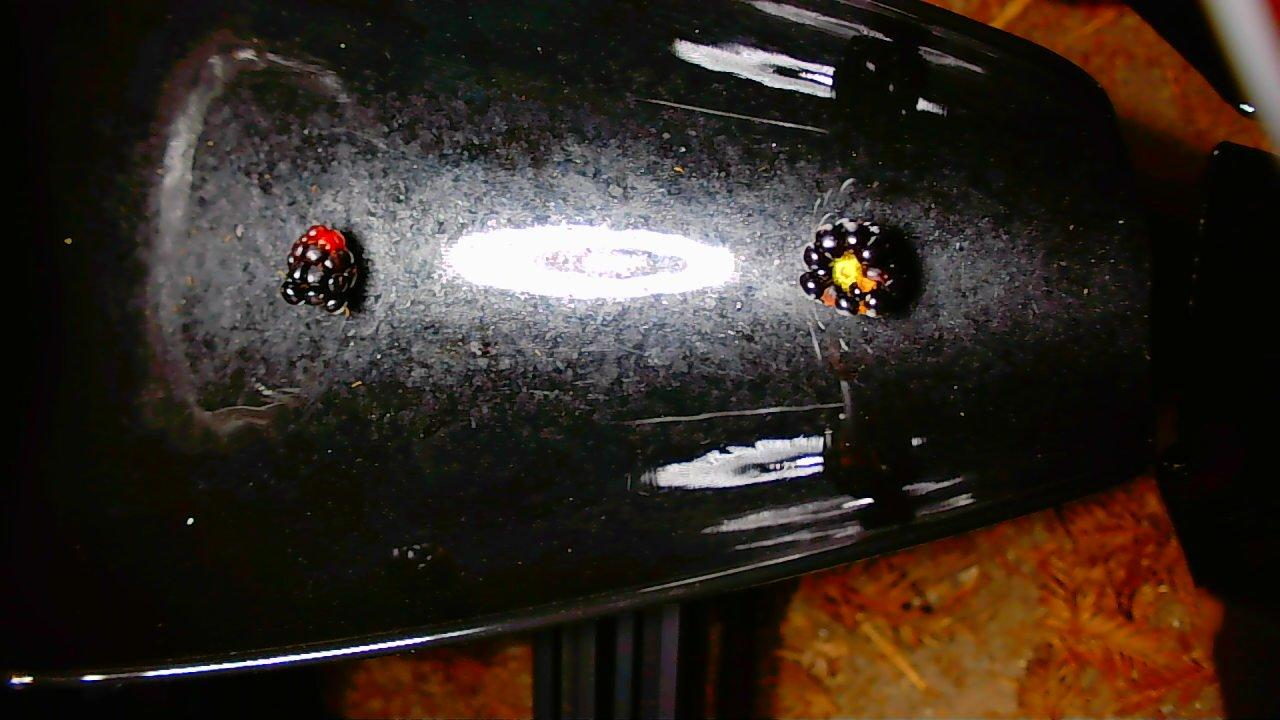berry: (799, 217, 905, 316), (281, 225, 358, 312)
